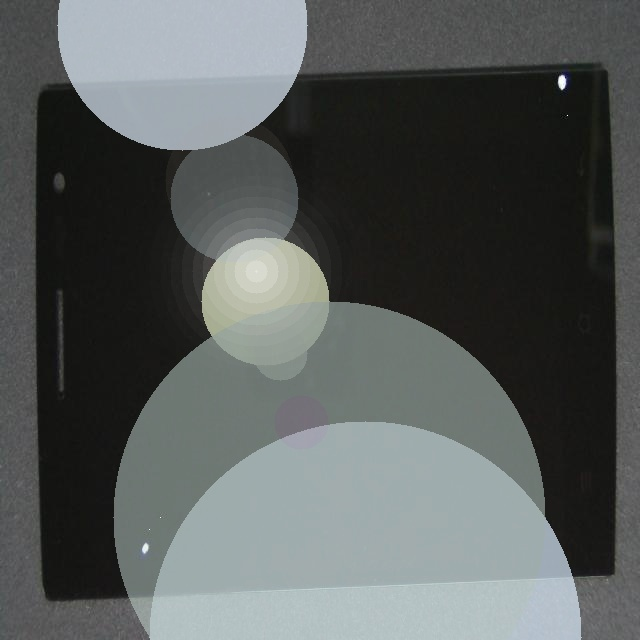stain: (85, 217, 207, 640), (288, 60, 640, 180)
